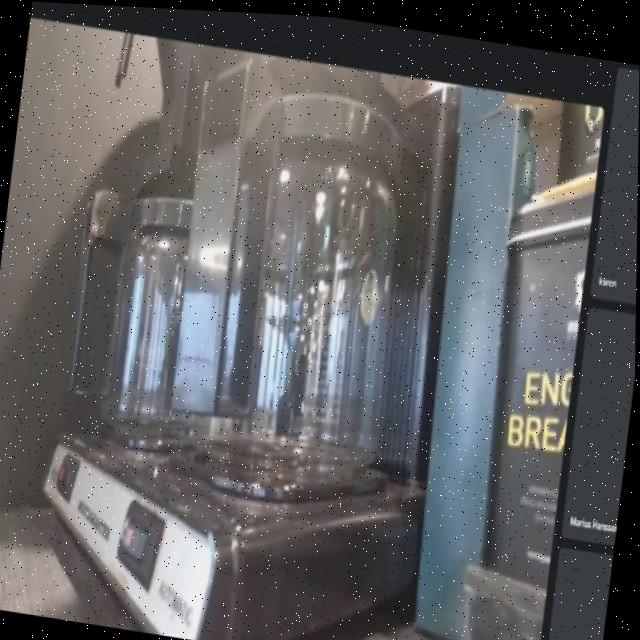nocoffee: (146, 38, 440, 545), (45, 123, 250, 460)
